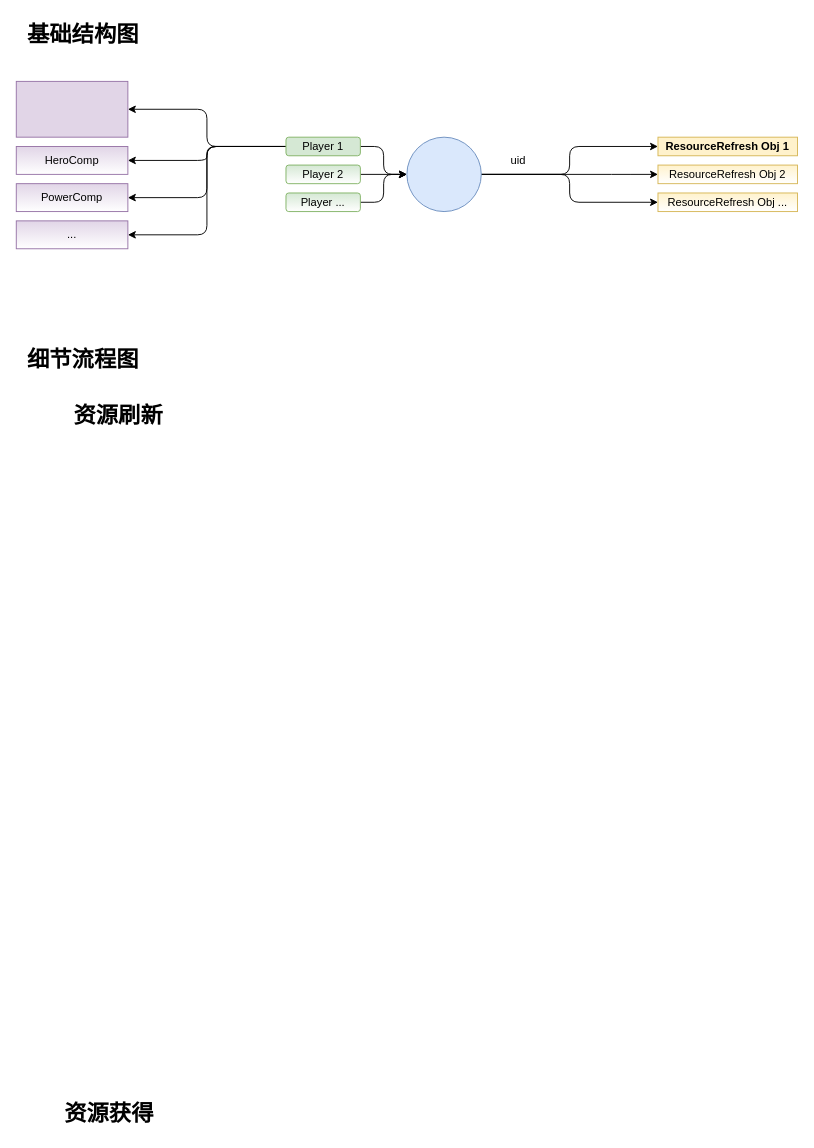
Image size: 814x1148. Some labels were removed from this diagram. The box of each missing label's shape, as (x1, y1, x2, y2) in pixels:
Resource Refresh Center: (406, 136, 481, 212)
ResourceComp: (15, 80, 128, 137)
